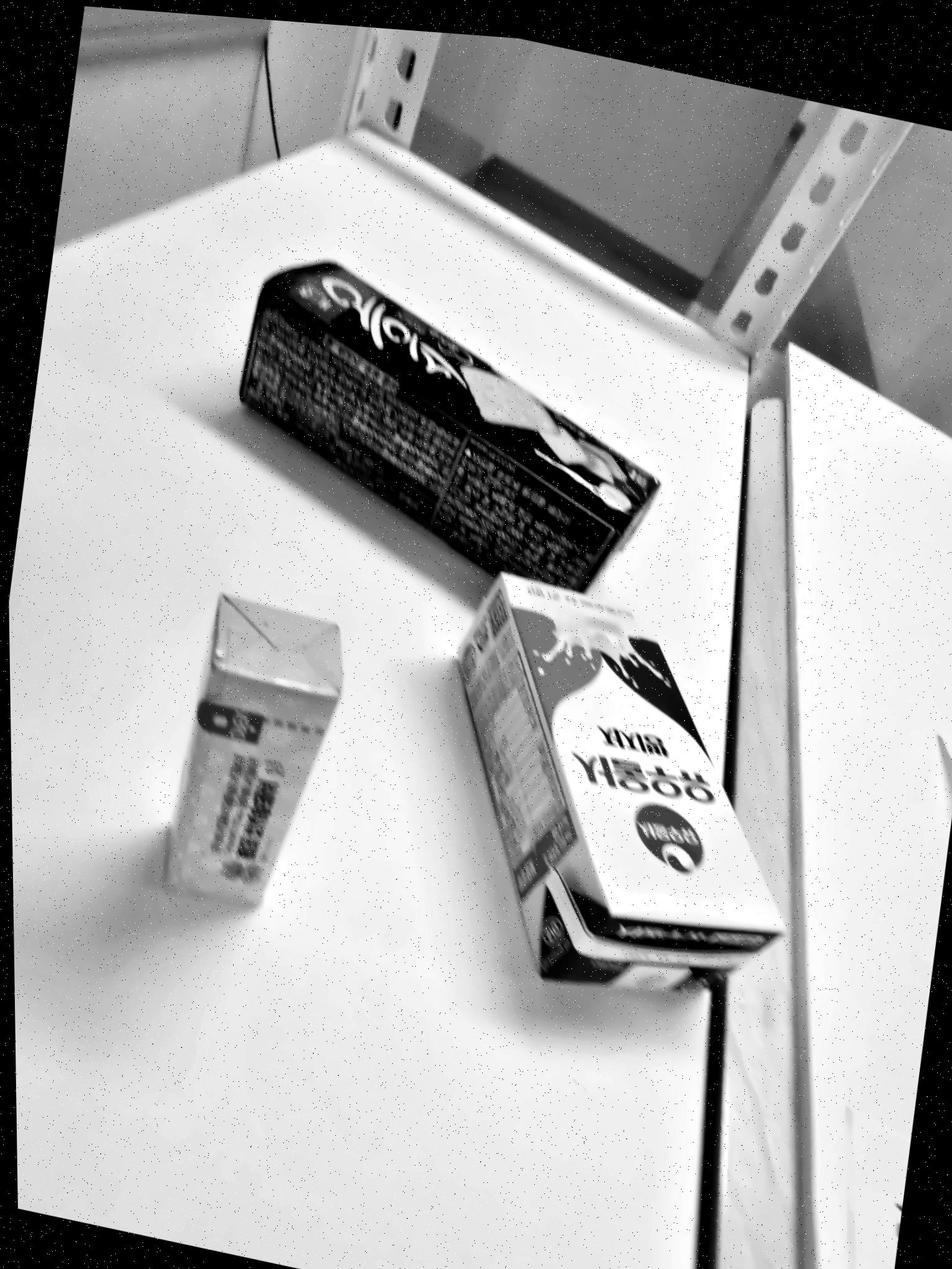cracker_ace: (240, 261, 660, 590)
gum_yellow: (165, 594, 343, 905)
milk_blue: (459, 574, 784, 990)
